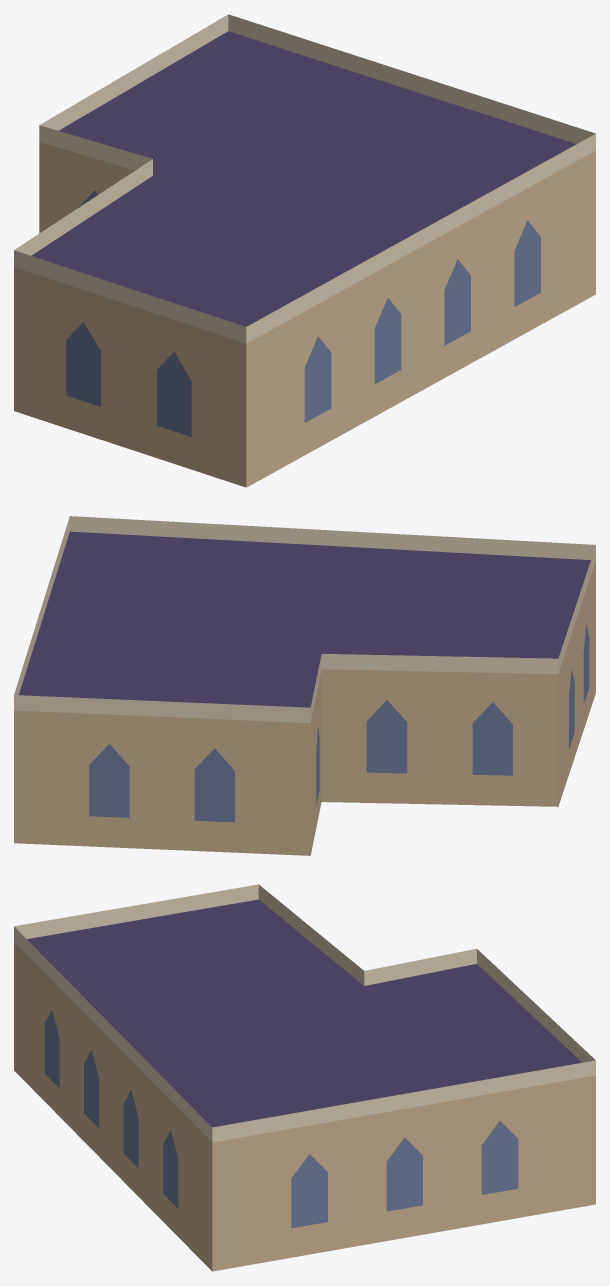
Rendered from b-005-young-house-day.glb.
3 views of the same model, one above another, from view 1: azimuth 30°, elevation 25°; view 2: azimuth 150°, elevation 25°; view 3: azimuth 270°, elevation 25° (orthographic). The views are drawn at different scales.
Visible parts, largest first — view 1: campus/b-005-young-house-day-0; view 2: campus/b-005-young-house-day-0; view 3: campus/b-005-young-house-day-0.
Part boxes in pixels (bbox=[...]): campus/b-005-young-house-day-0: bbox=[14, 14, 595, 487]; campus/b-005-young-house-day-0: bbox=[14, 516, 595, 855]; campus/b-005-young-house-day-0: bbox=[14, 884, 595, 1271].
Size of the model in its own units: 18.99 by 5.25 by 19.21.
